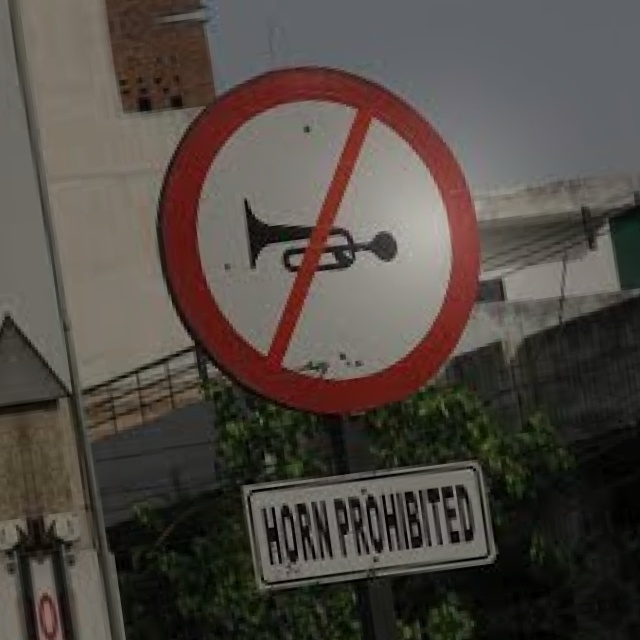Horn_Prohibited: (152, 48, 497, 430)
